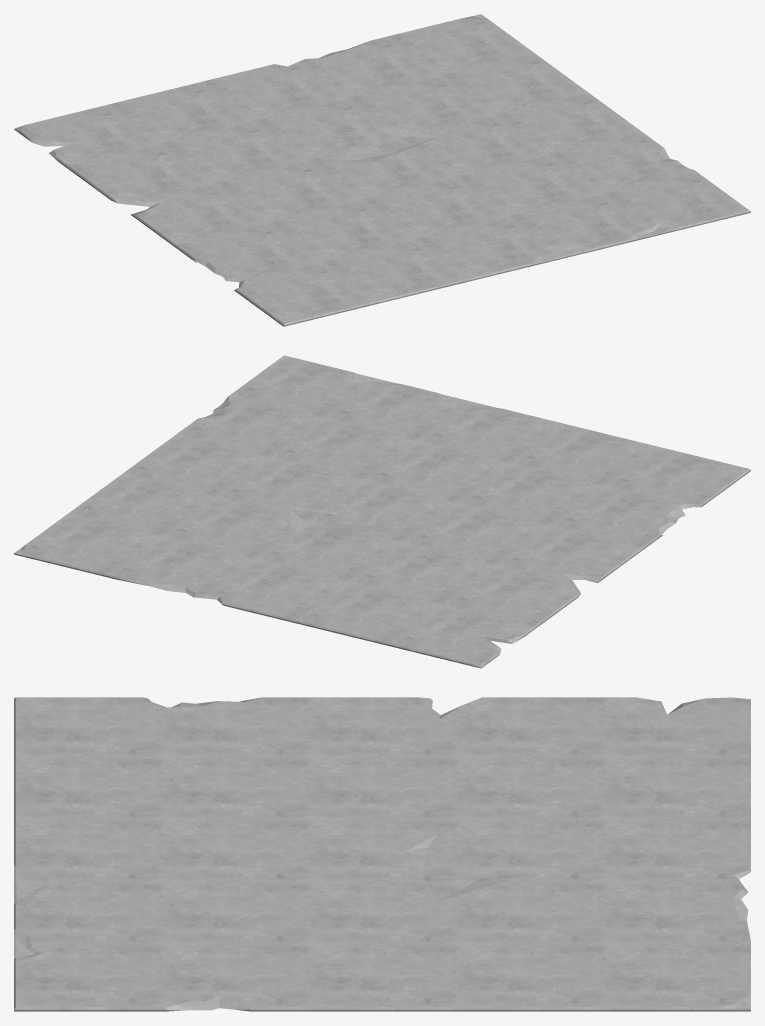
Rendered from Ground_panel_3.glb.
3 views of the same model, one above another, from view 1: azimuth 30°, elevation 25°; view 2: azimuth 150°, elevation 25°; view 3: azimuth 270°, elevation 25° (orthographic). The views are drawn at different scales.
Visible parts, largest first — view 1: Ground panel 3; view 2: Ground panel 3; view 3: Ground panel 3.
Boxes of the visible parts, left/top/right/bottom form: Ground panel 3: left=14, top=14, right=750, bottom=326; Ground panel 3: left=14, top=355, right=750, bottom=668; Ground panel 3: left=14, top=697, right=750, bottom=1011.
Size of the model in its own units: 80 by 0.4 by 80.
Materials: 1 (1 with a texture image).
